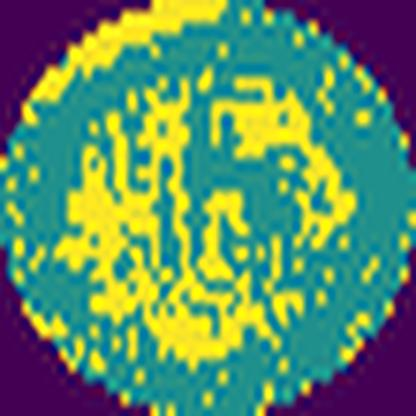Donut: (45, 57, 363, 369)
